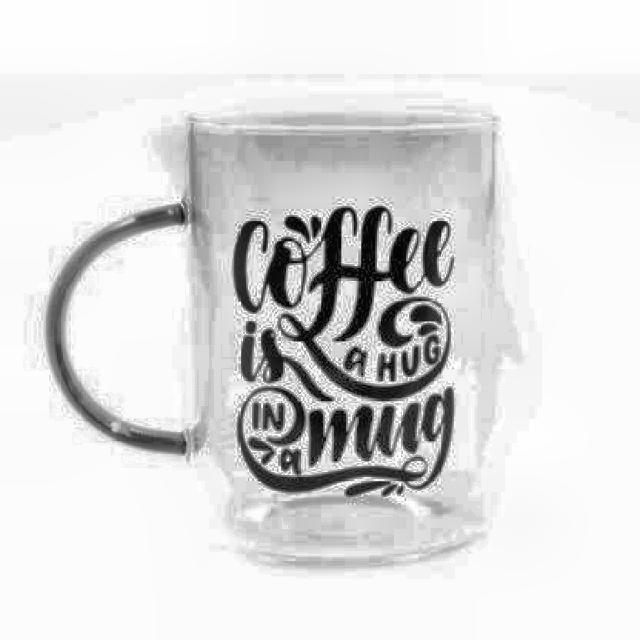Mug: (40, 102, 498, 564)
